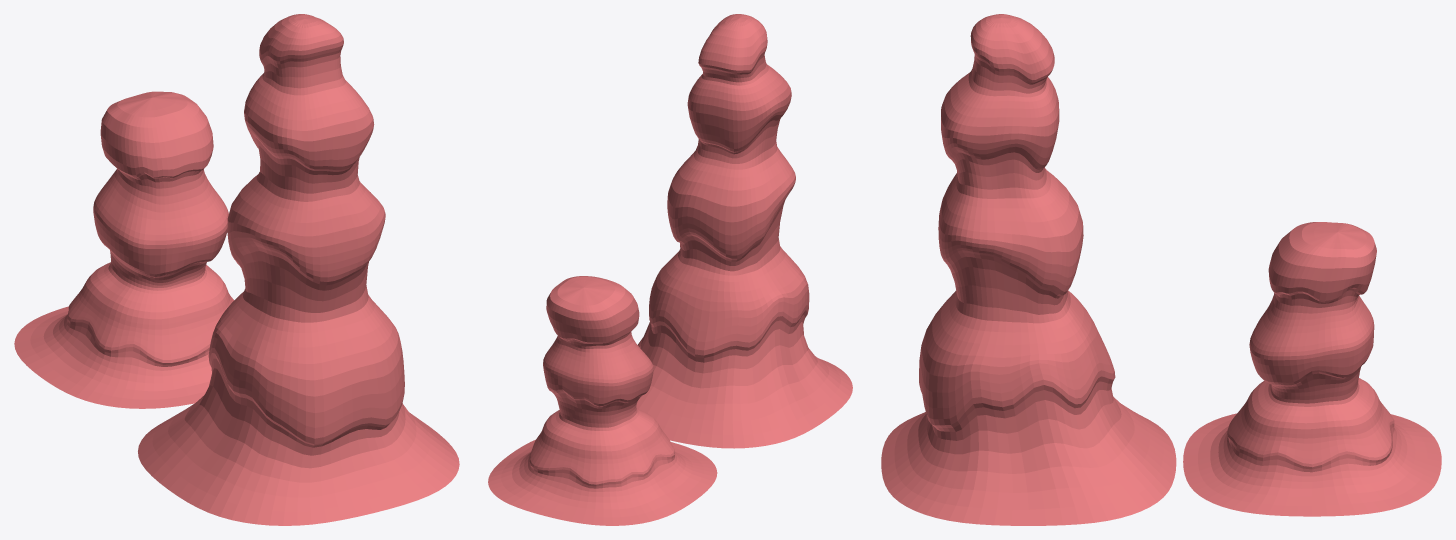
File: 01-StalagmiteRound.fbx
3 renders of one model, left to right at view 1: azimuth 30°, elevation 25°; view 2: azimuth 150°, elevation 25°; view 3: azimuth 270°, elevation 25°, orthographic. The views are drawn at different scales.
Visible parts, largest first — view 1: StalagmiteRoundBig, StalagmiteRoundSmall; view 2: StalagmiteRoundBig, StalagmiteRoundSmall; view 3: StalagmiteRoundBig, StalagmiteRoundSmall.
Boxes of the visible parts, x1,y1,x2,y2 form: StalagmiteRoundBig: [138, 14, 459, 525]; StalagmiteRoundSmall: [14, 91, 234, 408]; StalagmiteRoundBig: [636, 14, 852, 448]; StalagmiteRoundSmall: [488, 276, 717, 525]; StalagmiteRoundBig: [881, 14, 1176, 525]; StalagmiteRoundSmall: [1183, 222, 1441, 516].
Bounding box in the file's own units: 247 × 409 × 470.
